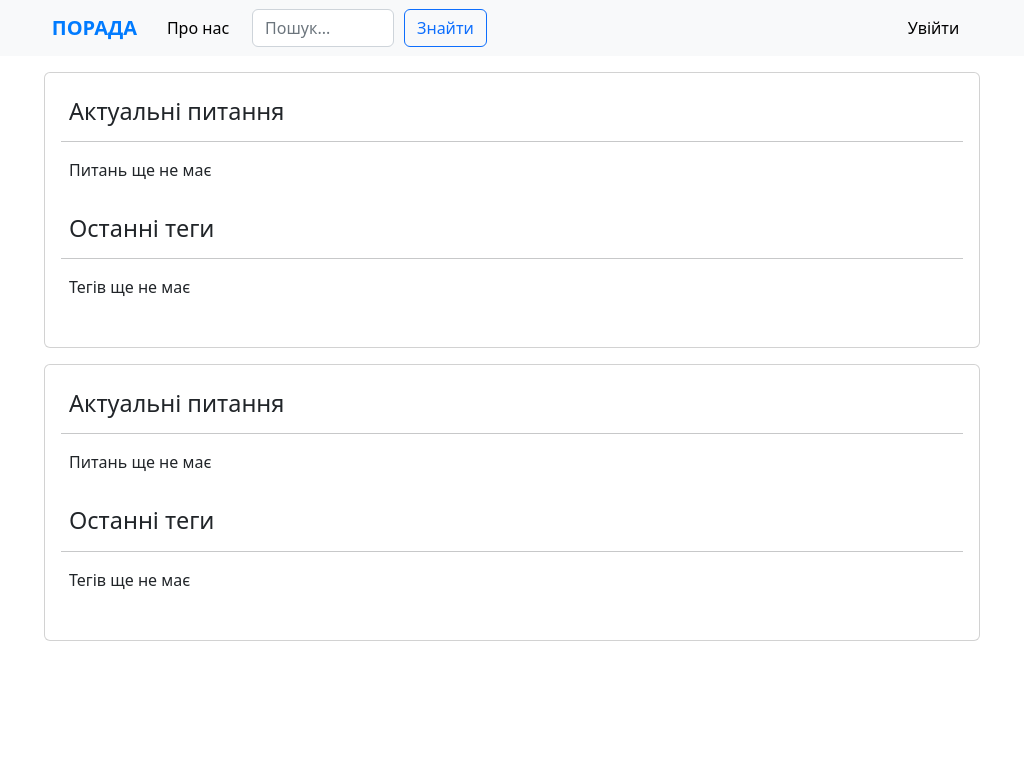
Test: AppRouter testing Auth › Login page
Click the button "Увійти". click: {"x": 933, "y": 28}
box: x1=895 y1=9 x2=972 y2=47
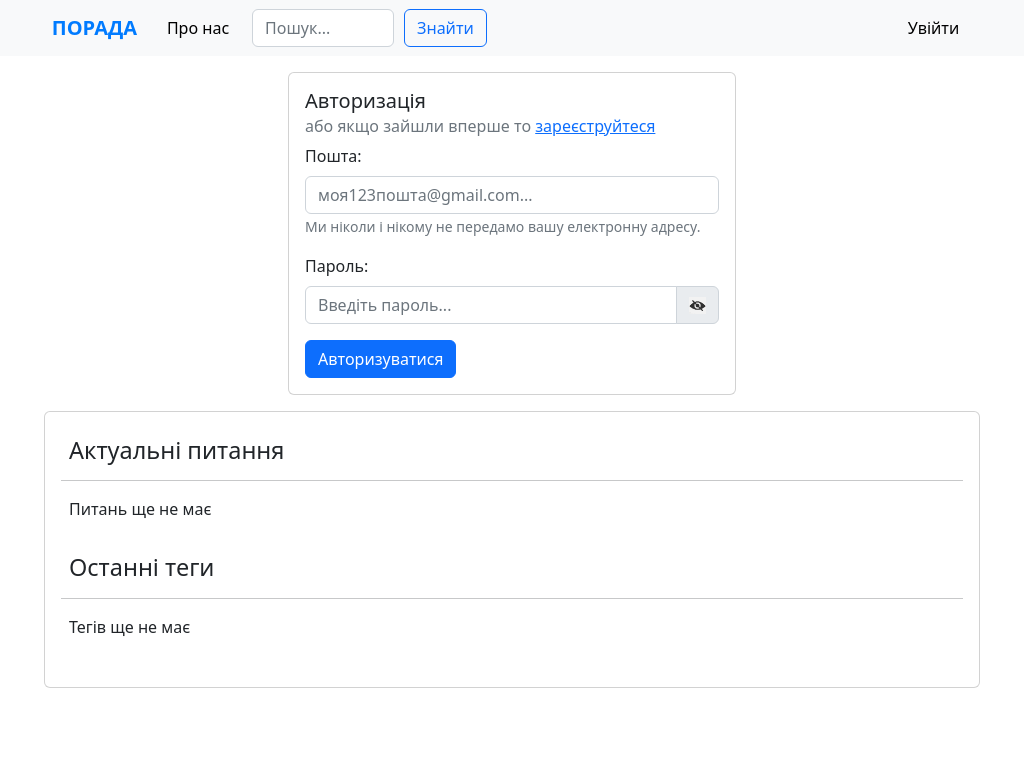
Expected: the text "Авторизація" is shown, x1=305 y1=87 x2=426 y2=114
Expected: the text "Пошта:" is shown, x1=305 y1=144 x2=362 y2=168
Expected: the text "Пароль:" is shown, x1=305 y1=254 x2=368 y2=278
